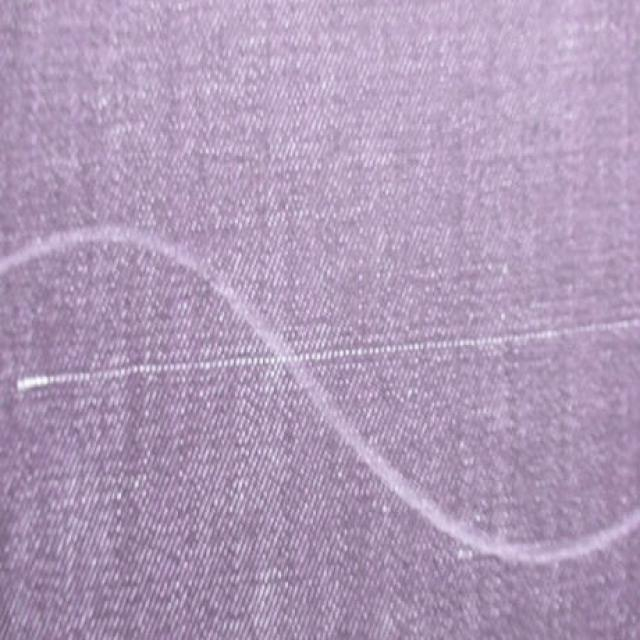stains: (13, 301, 640, 458)
